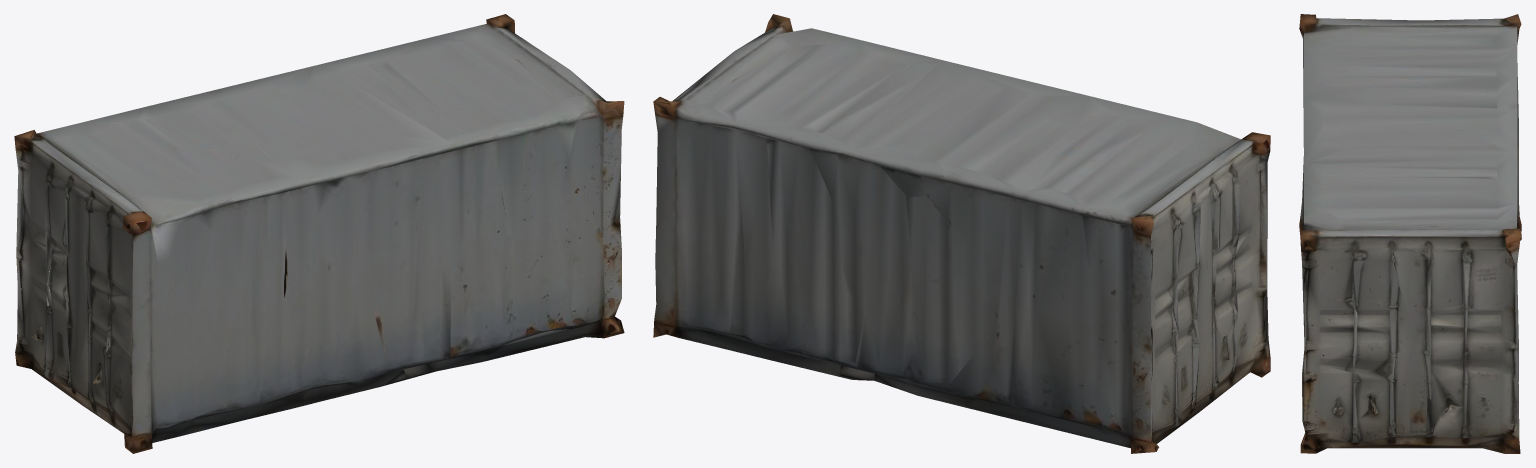
File: container.glb
3 renders of one model, left to right at view 1: azimuth 30°, elevation 25°; view 2: azimuth 150°, elevation 25°; view 3: azimuth 270°, elevation 25°, orthographic. The views are drawn at different scales.
Parts seen in each view (by area): view 1: tripo_node_fa6b7925-1c07-4bc1-ae91-9e77ebbe4f3d; view 2: tripo_node_fa6b7925-1c07-4bc1-ae91-9e77ebbe4f3d; view 3: tripo_node_fa6b7925-1c07-4bc1-ae91-9e77ebbe4f3d.
Part boxes in pixels (box(x1,y1,x2,y2)): tripo_node_fa6b7925-1c07-4bc1-ae91-9e77ebbe4f3d: box(14, 14, 624, 453); tripo_node_fa6b7925-1c07-4bc1-ae91-9e77ebbe4f3d: box(653, 14, 1270, 453); tripo_node_fa6b7925-1c07-4bc1-ae91-9e77ebbe4f3d: box(1299, 14, 1521, 453).
Bounding box in the file's own units: 0.9975 × 0.4482 × 0.4166.
Materials: 1 (1 with a texture image).
